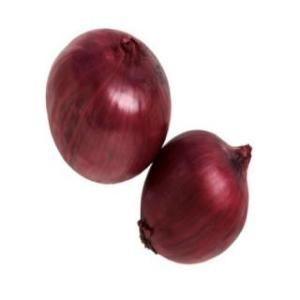onion: (44, 29, 172, 185), (137, 126, 250, 264)
